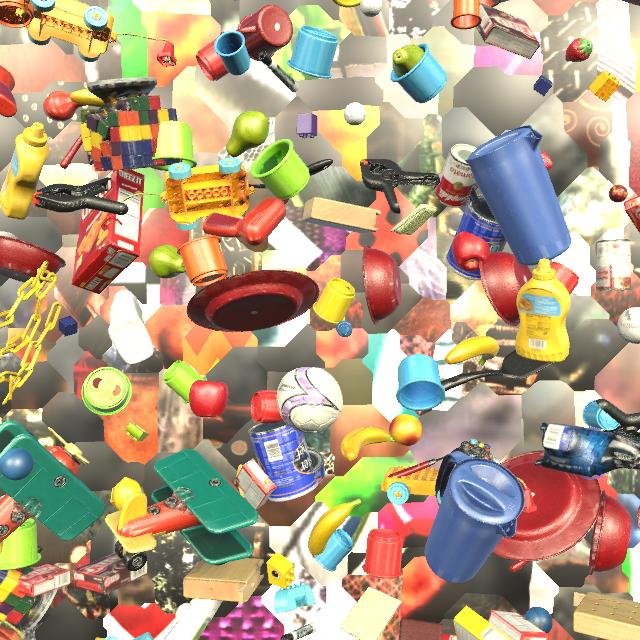ycb_002_master_chef_can: (248, 420, 318, 502), (445, 195, 507, 281)
ycb_003_cracker_box: (72, 169, 144, 294), (620, 0, 640, 6), (442, 634, 457, 640)
ycb_004_sugar_box: (454, 605, 512, 640), (0, 495, 5, 500)
ycb_005_tomato_soup_can: (434, 144, 477, 208), (596, 239, 632, 291)
ycb_006_mustard_bottle: (515, 259, 571, 362), (0, 122, 49, 220)
ycb_007_tuna_fish_can: (308, 449, 325, 484)
ycb_008_pudding_box: (476, 2, 540, 59), (73, 552, 148, 594)
ycb_009_gelatin_box: (234, 458, 277, 510), (487, 610, 548, 640), (18, 564, 71, 597), (433, 169, 478, 190), (624, 195, 640, 233)
ycb_010_potted_meat_can: (0, 619, 26, 640)
ycb_011_banana: (308, 498, 362, 558), (341, 426, 395, 461), (70, 89, 162, 109), (445, 336, 499, 366)
ycb_012_strawberry: (565, 38, 593, 62), (540, 151, 553, 171)
ycb_013_apple: (452, 231, 490, 271), (189, 380, 228, 417)
ycb_014_lemon: (113, 477, 142, 510)
ycb_015_peach: (389, 414, 423, 446)
ycb_016_pear: (226, 111, 269, 157), (149, 245, 186, 279), (392, 45, 424, 78)
